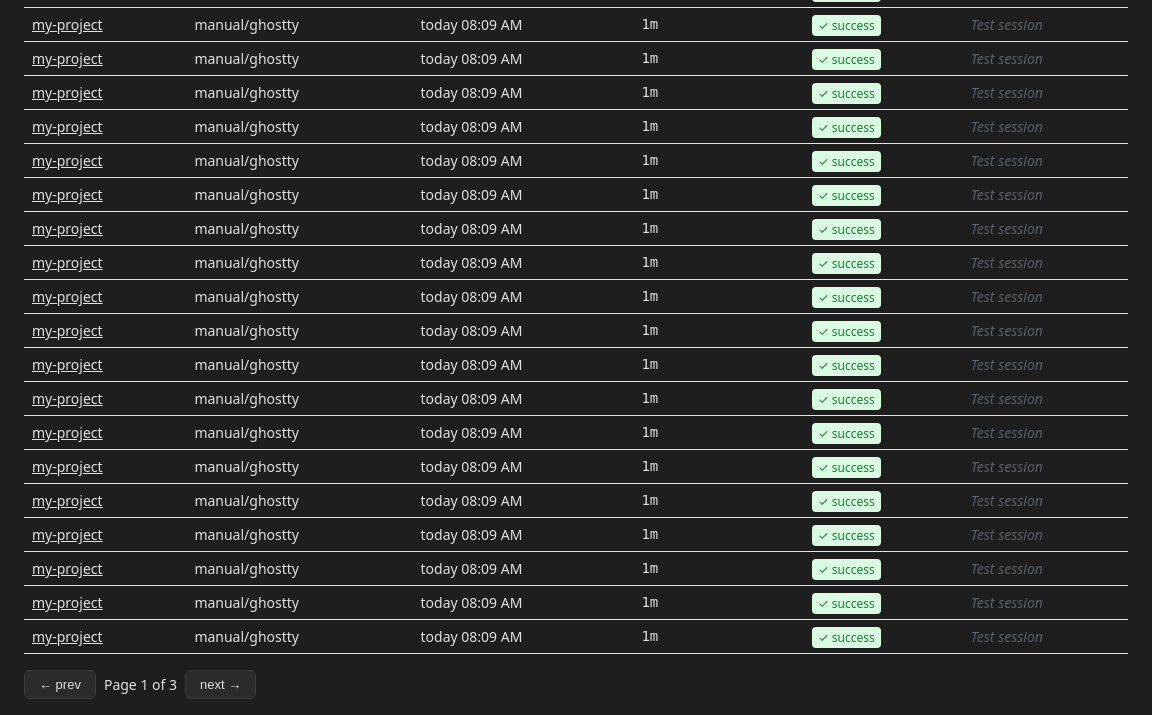
AC#8: pagination › clicking next increments page and fetches with new offset
(page scrolled)
Click the button with test id "next-page" at (221, 685), box [185,670,256,699]
(page scrolled)
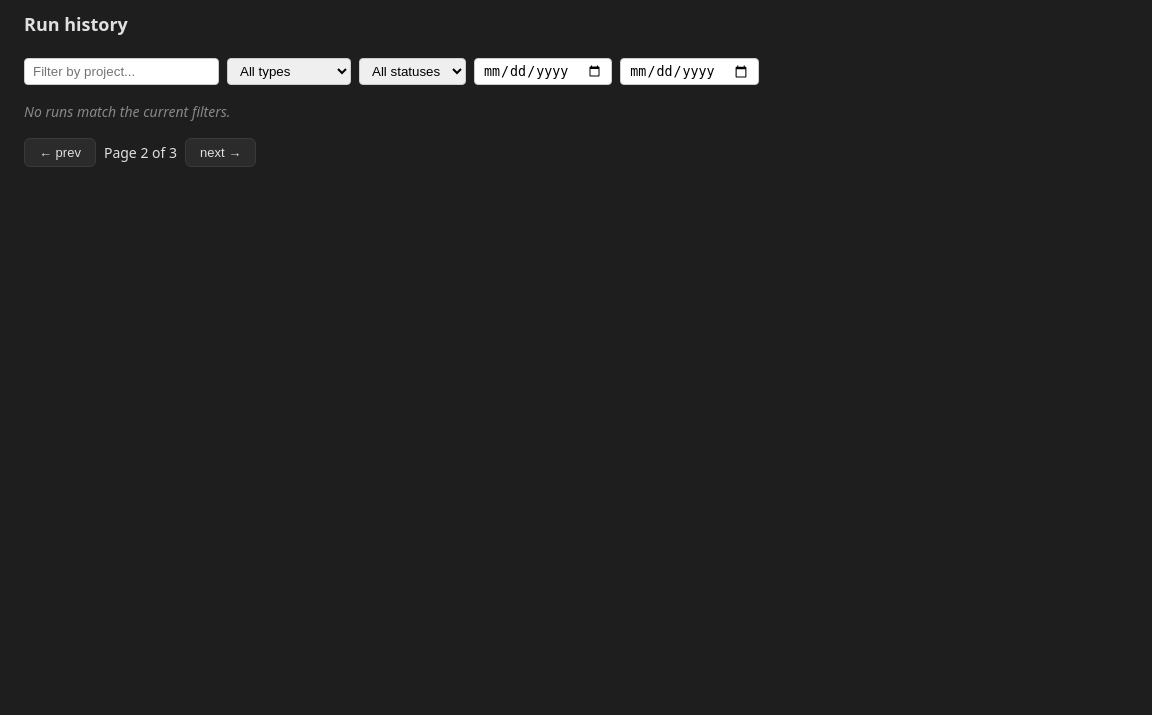
Now the text with test id "page-info" reads "Page 2 of 3", box [104,142,177,163]
